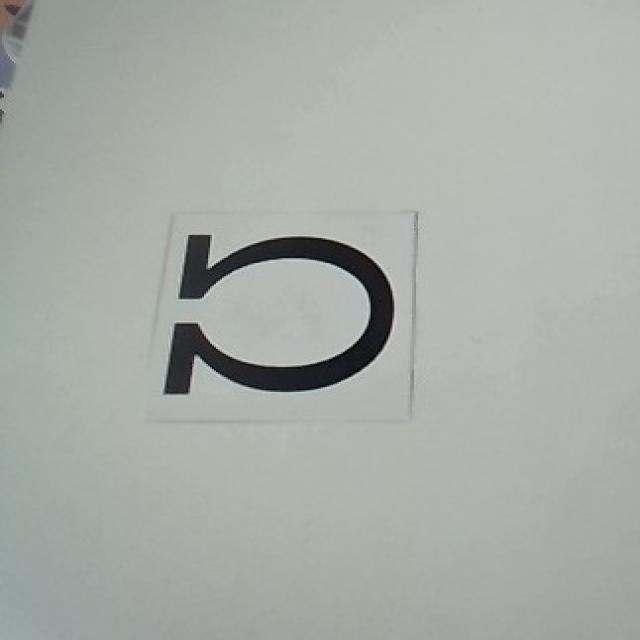OM: (165, 229, 392, 398)
